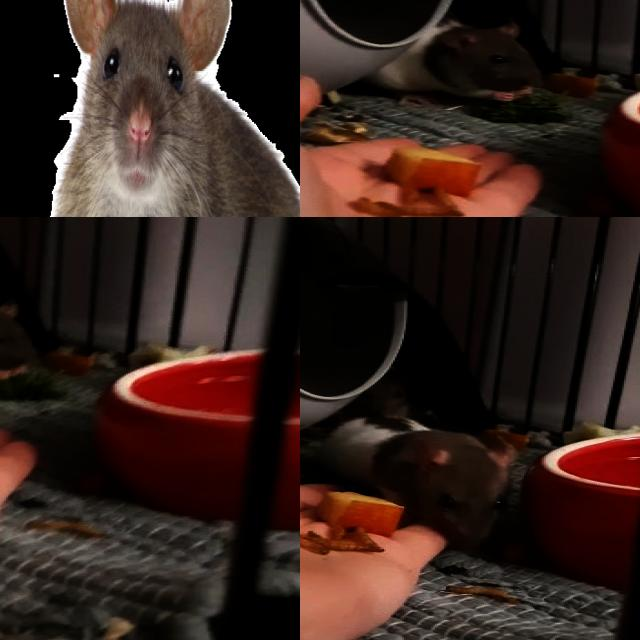rat: (0, 0, 300, 217), (306, 415, 512, 552), (348, 14, 556, 104), (0, 293, 38, 383)
